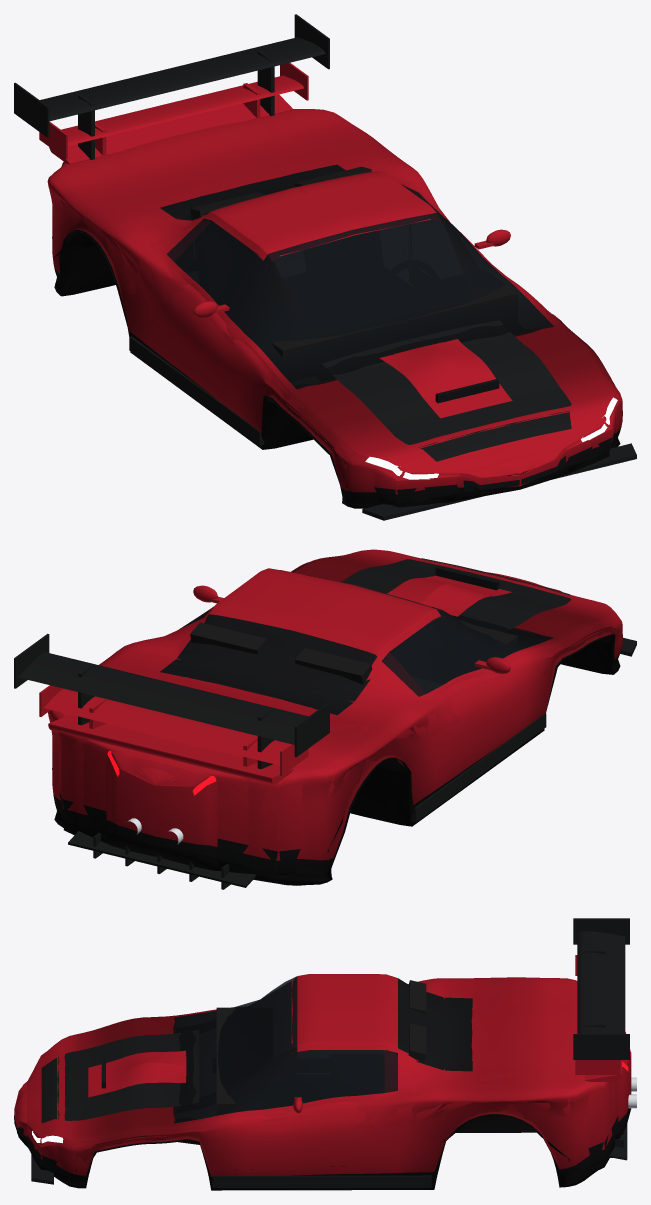
The model's file is sr_ferrari_f40.glb.
The picture shows the model from 3 angles, top to bottom: view 1: azimuth 30°, elevation 25°; view 2: azimuth 150°, elevation 25°; view 3: azimuth 270°, elevation 25°; orthographic projection. The views are drawn at different scales.
Parts seen in each view (by area): view 1: body (×2), hood_3, spoiler_3, spoiler_2, hood_1, bumper_1, spoiler_1, interior, mirrors, grille, headlights; view 2: body (×2), spoiler_3, spoiler_2, bumper_1, hood_3, spoiler_1, interior, hood_1, mirrors, hood_1_intake; view 3: body (×2), spoiler_3, hood_3, bumper_1, hood_1, interior, spoiler_2.
Part boxes in pixels (x1,y1,x2,y2): body (×2): (47,109,622,508); hood_3: (322,320,571,461); spoiler_3: (14,14,329,159); spoiler_2: (39,63,308,159); hood_1: (379,339,512,418); bumper_1: (129,336,636,520); spoiler_1: (49,94,293,164); interior: (190,166,517,357); mirrors: (193,229,510,317); grille: (463,456,565,491); headlights: (365,398,617,479); body (×2): (48,549,622,885); spoiler_3: (14,633,329,769); spoiler_2: (39,685,308,775); bumper_1: (68,637,636,889); hood_3: (341,558,571,632); spoiler_1: (48,714,293,784); interior: (190,622,517,684); hood_1: (387,575,512,616); mirrors: (193,585,510,673); hood_1_intake: (435,566,499,590); body (×2): (14,974,631,1190); spoiler_3: (573,918,629,1059); hood_3: (41,1029,199,1123); bumper_1: (31,1124,627,1187); hood_1: (88,1050,186,1097); interior: (216,980,426,1109); spoiler_2: (575,955,620,1074).
Size of the model in its own units: 2.18 by 1.23 by 4.4.
